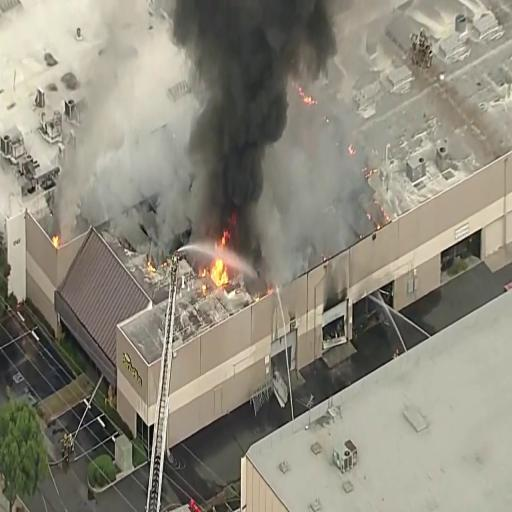fire: (210, 230, 228, 287)
smoke: (201, 0, 327, 223)
